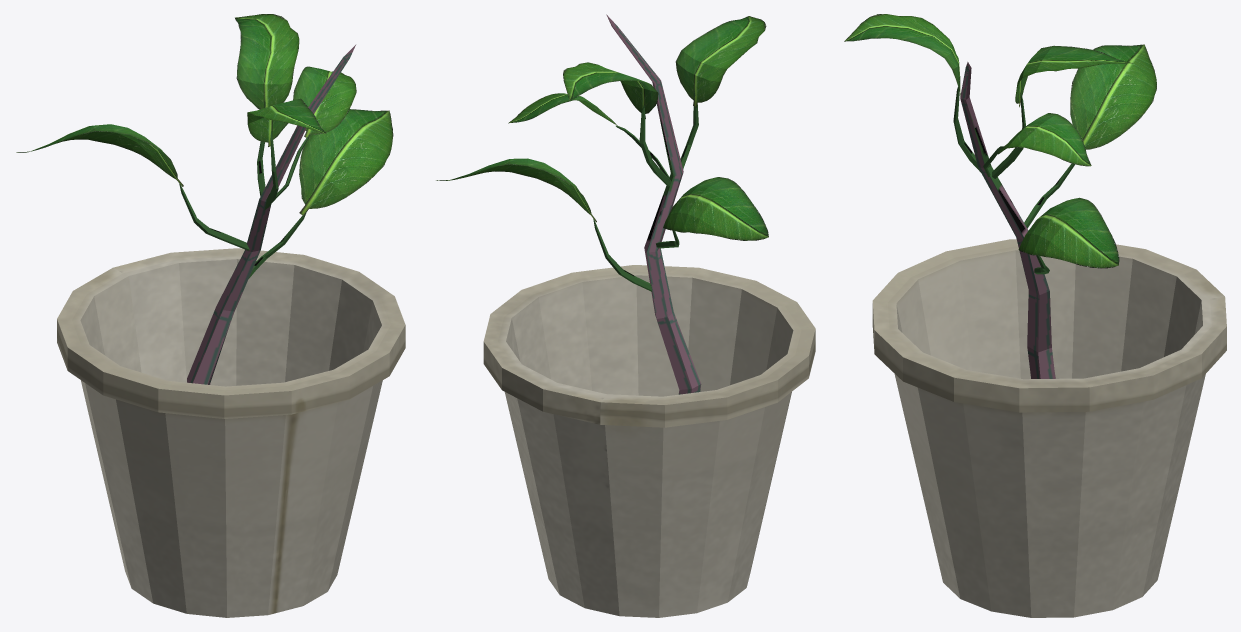
The model's file is plantcup.fbx.
3 views of the same model, side by side, from view 1: azimuth 30°, elevation 25°; view 2: azimuth 150°, elevation 25°; view 3: azimuth 270°, elevation 25° (orthographic). The views are drawn at different scales.
Parts seen in each view (by area): view 1: PlantCup; view 2: PlantCup; view 3: PlantCup.
Part boxes in pixels (x1,y1,x2,y2): PlantCup: (16, 14, 405, 617); PlantCup: (436, 14, 815, 617); PlantCup: (844, 14, 1226, 617).
Size of the model in its own units: 26.12 by 36.97 by 23.18.
